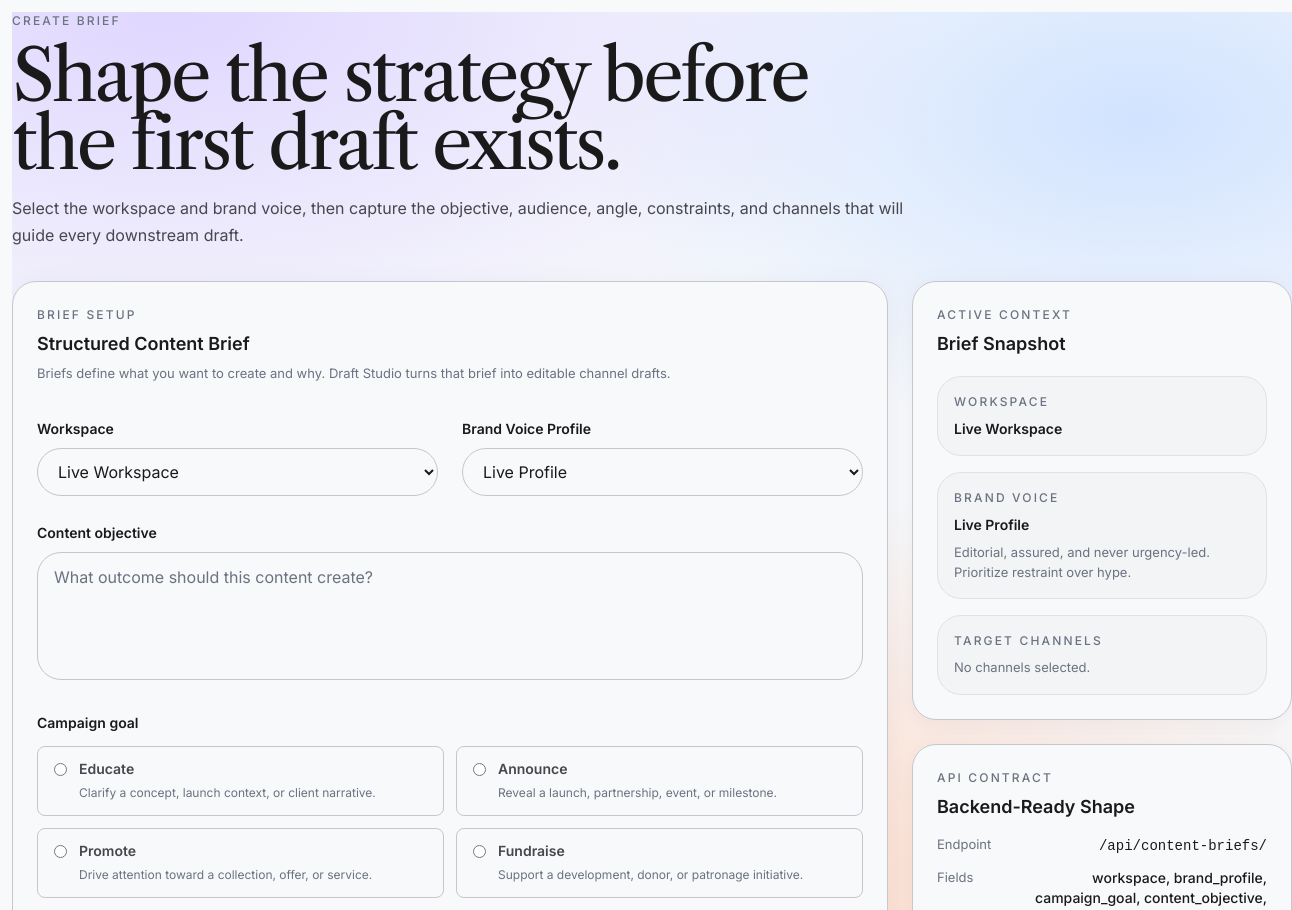
Test: CreateBriefShell › scopes brand profiles to the selected workspace
Select "Second Workspace" in the dropdown labelled "Workspace" at (238, 472), box 37,448 -> 438,496
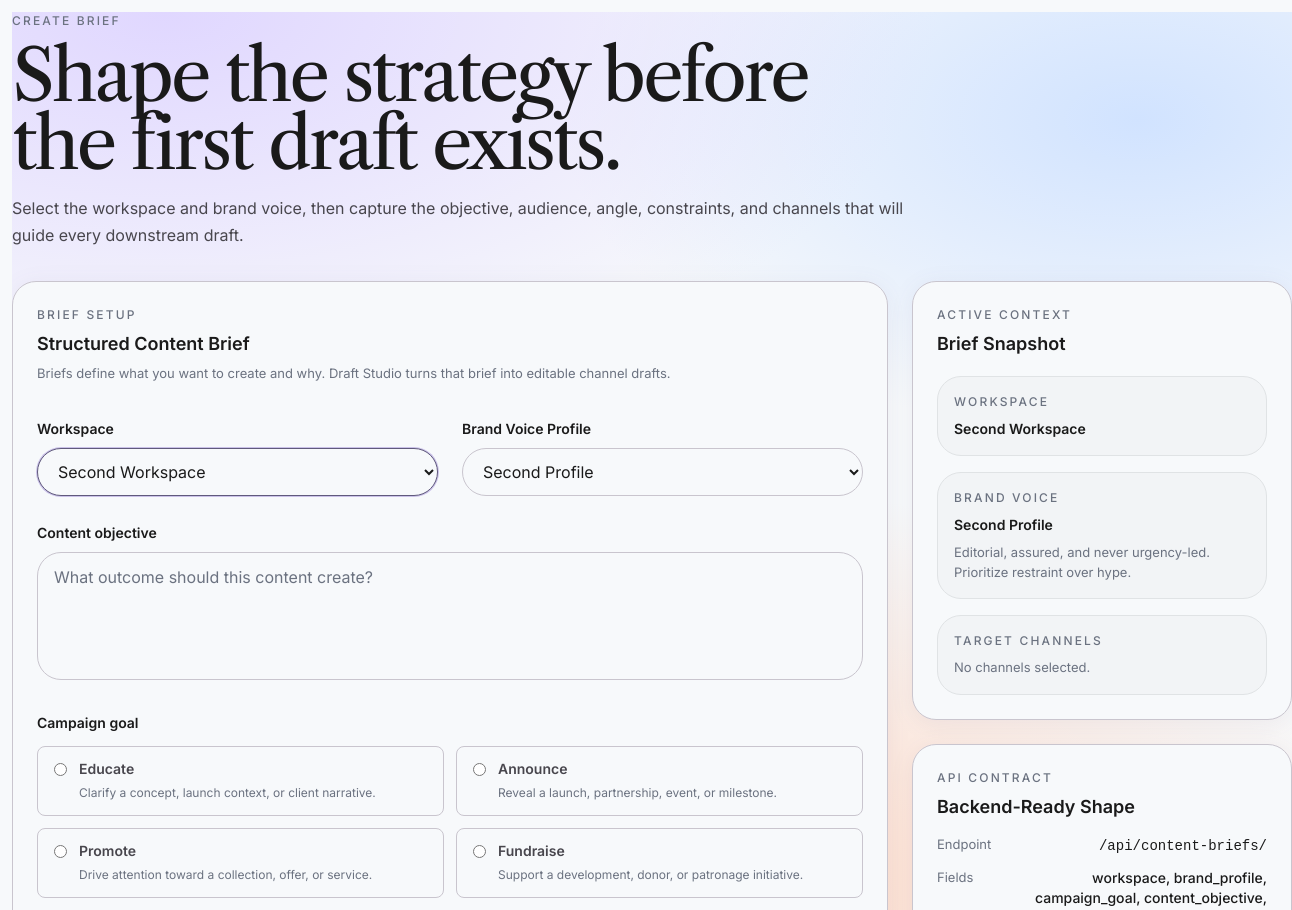
Check: the dropdown labelled "Brand Voice Profile" shows "Second Profile", box 462,448 -> 863,496
